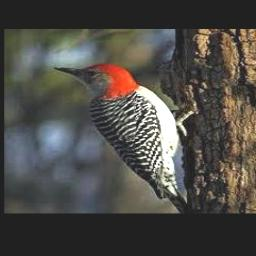Woodpecker: (54, 63, 192, 213)
